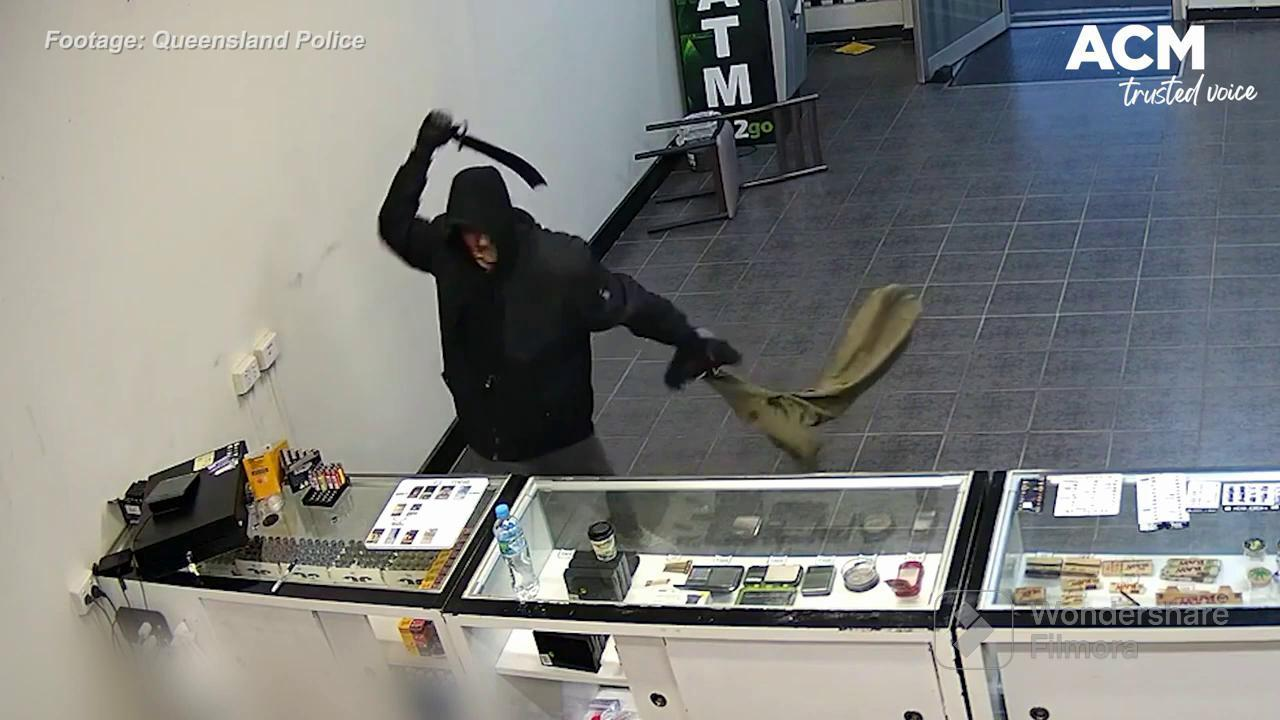melee: (426, 105, 554, 196)
